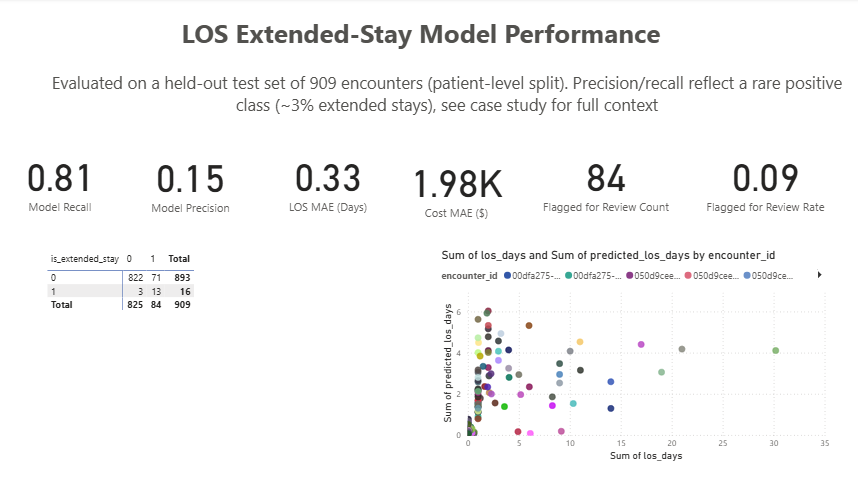

This screenshot's page, from the dashboard's own definition file:
{"tool":"powerbi","page":{"name":"Model Performance","canvas":[1280,720],"ordinal":0},"visuals":[{"type":"card","fields":{"Values":["model_predictions_bi.Model Recall"]},"box":[24.5,205.9,195.8,113.8],"z":0},{"type":"card","fields":{"Values":["model_predictions_bi.Model Precision"]},"box":[220.3,210.2,180,106.6],"z":1000},{"type":"card","fields":{"Values":["model_predictions_bi.LOS MAE (Days)"]},"box":[426.2,210.2,164.2,105.1],"z":2000},{"type":"card","fields":{"Values":["model_predictions_bi.Cost MAE ($)"]},"box":[603.4,216,180,109.4],"z":3000},{"type":"card","fields":{"Values":["model_predictions_bi.Flagged for Review Rate"]},"box":[1041.1,210.2,194.4,105.1],"z":4000},{"type":"card","fields":{"Values":["model_predictions_bi.Flagged for Review Count"]},"box":[809.3,210.2,198.7,103.7],"z":5000},{"type":"actionButton","box":[0,0,100,40],"z":6000},{"type":"pivotTable","fields":{"Rows":["model_predictions_bi.is_extended_stay"],"Columns":["model_predictions_bi.flagged_for_review"],"Values":["model_predictions_bi.Test Set Encounters"]},"box":[99.4,360,457.9,165.6],"z":7000},{"type":"scatterChart","fields":{"X":["Sum(model_predictions_bi.los_days)"],"Y":["Sum(model_predictions_bi.predicted_los_days)"],"Series":["model_predictions_bi.encounter_id"]},"box":[666.7,360,568.8,312.5],"z":8000},{"type":"textbox","box":[24.5,20.2,1235.5,79.2],"z":9000},{"type":"textbox","box":[99.4,99.4,1160.6,83.5],"z":11000}]}

Visuals, with their boxes in screenshot pixels (x1, y1, x2, y2), scaled from the page's 1280x720 canvas onto the 858x494 screenshot:
card - model_predictions_bi.Model Recall: (left=16, top=141, right=148, bottom=219)
card - model_predictions_bi.Model Precision: (left=148, top=144, right=268, bottom=217)
card - model_predictions_bi.LOS MAE (Days): (left=286, top=144, right=396, bottom=216)
card - model_predictions_bi.Cost MAE ($): (left=404, top=148, right=525, bottom=223)
card - model_predictions_bi.Flagged for Review Rate: (left=698, top=144, right=828, bottom=216)
card - model_predictions_bi.Flagged for Review Count: (left=542, top=144, right=676, bottom=215)
actionButton: (left=0, top=0, right=67, bottom=27)
pivotTable - model_predictions_bi.is_extended_stay x model_predictions_bi.flagged_for_review: (left=67, top=247, right=374, bottom=361)
scatterChart - Sum(model_predictions_bi.los_days) x Sum(model_predictions_bi.predicted_los_days): (left=447, top=247, right=828, bottom=461)
textbox: (left=16, top=14, right=845, bottom=68)
textbox: (left=67, top=68, right=845, bottom=125)
